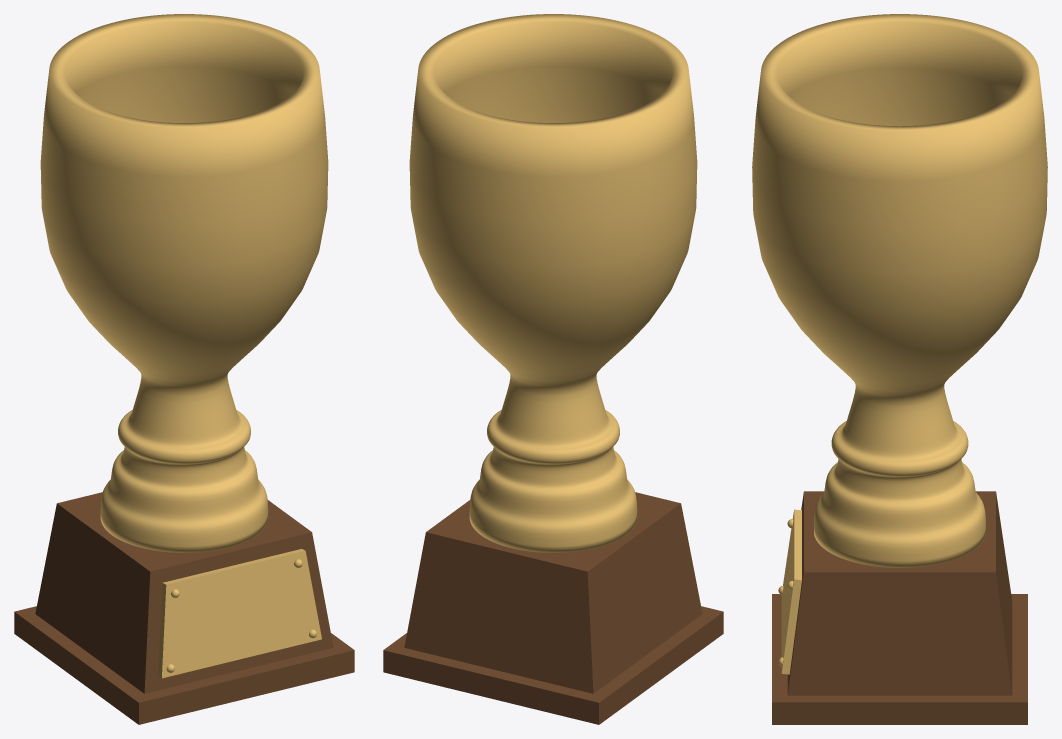
Rendered from trophy.gltf.
3 renders of one model, left to right at view 1: azimuth 30°, elevation 25°; view 2: azimuth 150°, elevation 25°; view 3: azimuth 270°, elevation 25°, orthographic. The views are drawn at different scales.
Visible parts, largest first — view 1: Circle, Plane; view 2: Circle, Plane; view 3: Circle, Plane.
Boxes of the visible parts, bbox=[...] form: Circle: bbox=[40, 14, 328, 552]; Plane: bbox=[14, 492, 354, 724]; Circle: bbox=[409, 14, 697, 552]; Plane: bbox=[383, 492, 723, 724]; Circle: bbox=[752, 14, 1047, 567]; Plane: bbox=[772, 491, 1027, 724].
Size of the model in its own units: 1.52 by 3.39 by 1.52.
